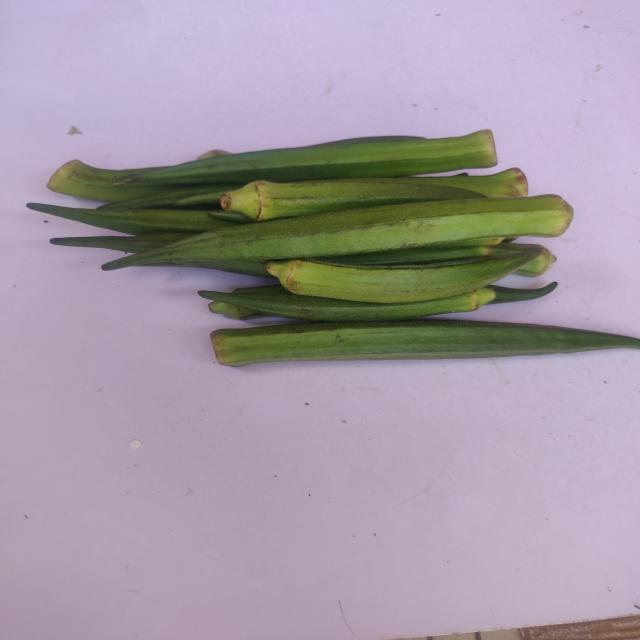Ladies Finger: (101, 194, 574, 270), (113, 129, 497, 184), (210, 320, 640, 366), (264, 248, 544, 303), (219, 180, 485, 221)
